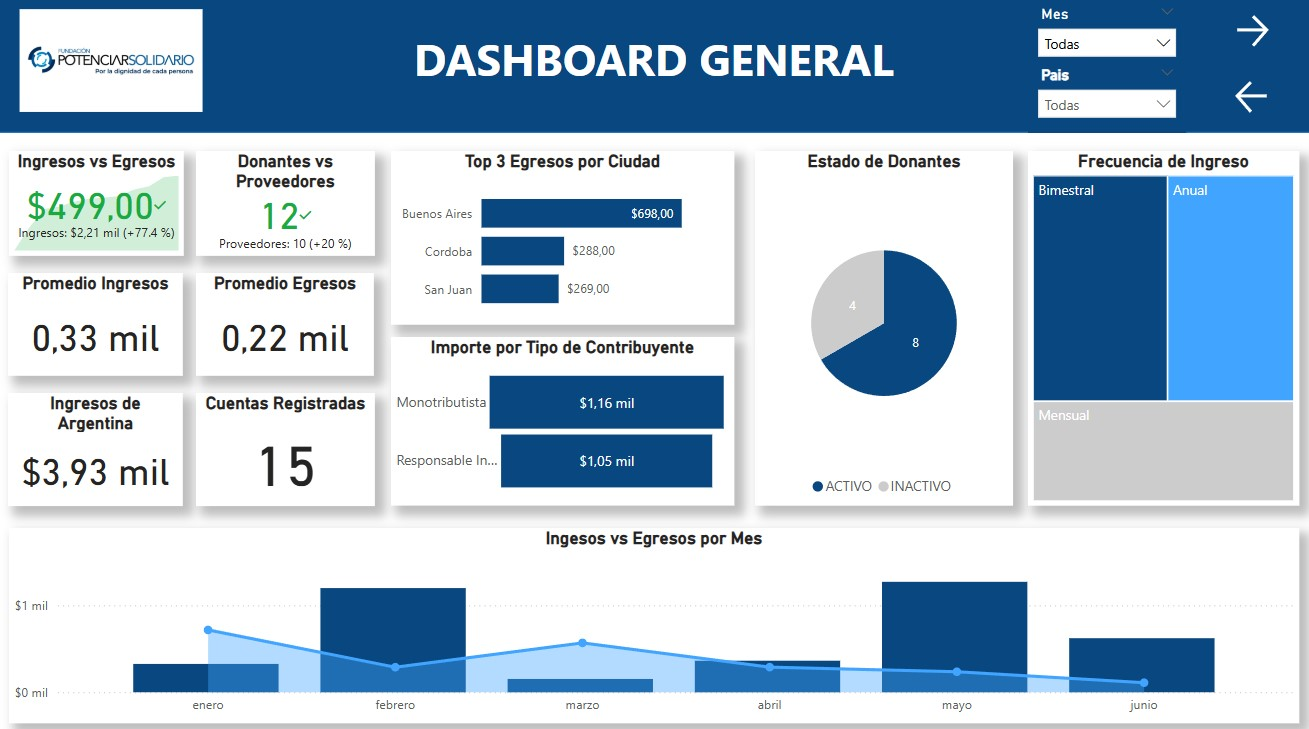

The dashboard page shown, as its layout file describes it:
{"tool":"powerbi","page":{"name":"General","canvas":[1280,720],"ordinal":3},"visuals":[{"type":"shape","box":[0,0,1280.4,133.9],"z":0},{"type":"image","box":[2.9,8.8,218.8,109.9],"z":1000},{"type":"textbox","box":[351.1,28.4,577.2,78],"z":2000},{"type":"slicer","fields":{"Values":["fundacionbd pais.Pais"]},"box":[1003.7,63.8,154.3,70],"z":3000},{"type":"actionButton","box":[1201.5,78.9,46.1,40.8],"z":4000},{"type":"actionButton","box":[1201.5,14.2,55.9,40.8],"z":5000},{"type":"slicer","fields":{"Values":["Tabla Calendario.Date.Variación.Jerarquía de fechas.Mes"]},"box":[1003.7,5.3,154.3,58.5],"z":6000},{"type":"kpi","title":"Ingresos vs Egresos","fields":{"Indicator":["Sum(fundacionbd ingreso.Importe)"],"TrendLine":["fundacionbd ingreso.Importe"],"Goal":["Sum(fundacionbd egresos.Importe)"]},"box":[12.4,151.6,170.2,102],"z":7000},{"type":"kpi","title":"Donantes vs Proveedores","fields":{"Indicator":["CountNonNull(fundacionbd ingreso.Id_Ingreso)"],"Goal":["Sum(fundacionbd egresos.Id_Egreso)"],"TrendLine":["fundacionbd egresos.Id_Egreso"]},"box":[194.2,151.6,173.8,102],"z":8000},{"type":"lineStackedColumnComboChart","title":"Ingesos vs Egresos por Mes","fields":{"Y":["Sum(fundacionbd ingreso.Importe)"],"Category":["Tabla Calendario.Date.Variación.Jerarquía de fechas.Mes"],"Y2":["Sum(fundacionbd egresos.Importe)"]},"box":[12.4,518.7,1254.7,189.8],"z":9000},{"type":"card","title":"Promedio Ingresos","fields":{"Values":["Medidas.Prom Importe Don"]},"box":[11.7,270.4,170.2,100.2],"z":10000},{"type":"card","title":"Promedio Egresos","fields":{"Values":["Medidas.Prom Importe x Prov"]},"box":[194.5,270.4,173.1,100.2],"z":11000},{"type":"card","title":"Ingresos de Argentina","fields":{"Values":["Sum(fundacionbd ingreso.Importe)"]},"box":[11.7,387.1,170.2,109.9],"z":12000},{"type":"card","title":"Cuentas Registradas","fields":{"Values":["Count(fundacionbd cuenta.Cuenta)"]},"box":[194.5,387.1,174.1,109.9],"z":13000},{"type":"clusteredBarChart","title":"Top 3 Egresos por Ciudad","fields":{"Y":["Sum(fundacionbd egresos.Importe)"],"Category":["fundacionbd ciudad.Ciudad"]},"box":[384.2,151.7,333.6,169.2],"z":14000},{"type":"pieChart","title":"Estado de Donantes","fields":{"Category":["fundacionbd estadodonante.Estado_donante"],"Y":["CountNonNull(fundacionbd ingreso.Id_Donante)"]},"box":[738.2,151.7,250.9,345.3],"z":15000},{"type":"funnel","title":"Importe por Tipo de Contribuyente","fields":{"Category":["fundacionbd tipocontribuyente.Tipo_contribuyente"],"Y":["Sum(fundacionbd egresos.Importe)"]},"box":[384.2,332.6,333.6,164.4],"z":16000},{"type":"treemap","title":"Frecuencia de Ingreso","fields":{"Group":["fundacionbd frecuencia.Frecuencia"],"Values":["Sum(fundacionbd ingreso.Importe)"]},"box":[1003.8,151.7,263.6,345.3],"z":17000}]}

Visuals, with their boxes in screenshot pixels (x1, y1, x2, y2), scaled from the page's 1280x720 canvas onto the 1309x729 screenshot:
shape: 0 0 1308 136
image: 3 9 227 120
textbox: 359 29 949 108
slicer - fundacionbd pais.Pais: 1026 65 1184 135
actionButton: 1229 80 1276 121
actionButton: 1229 14 1286 56
slicer - Tabla Calendario.Date.Variación.Jerarquía de fechas.Mes: 1026 5 1184 65
"Ingresos vs Egresos" kpi: 13 153 187 257
"Donantes vs Proveedores" kpi: 199 153 376 257
"Ingesos vs Egresos por Mes" lineStackedColumnComboChart: 13 525 1296 717
"Promedio Ingresos" card: 12 274 186 375
"Promedio Egresos" card: 199 274 376 375
"Ingresos de Argentina" card: 12 392 186 503
"Cuentas Registradas" card: 199 392 377 503
"Top 3 Egresos por Ciudad" clusteredBarChart: 393 154 734 325
"Estado de Donantes" pieChart: 755 154 1012 503
"Importe por Tipo de Contribuyente" funnel: 393 337 734 503
"Frecuencia de Ingreso" treemap: 1027 154 1296 503
